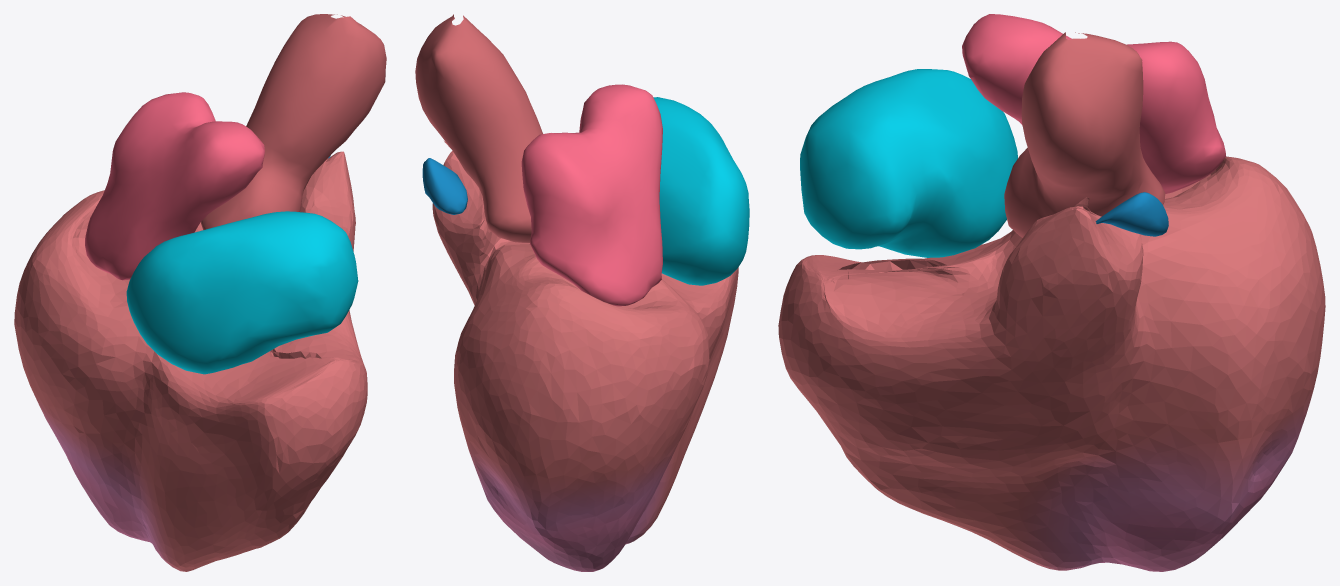
File: frame_38.glb
The picture shows the model from 3 angles, left to right: view 1: azimuth 30°, elevation 25°; view 2: azimuth 150°, elevation 25°; view 3: azimuth 270°, elevation 25°; orthographic projection. The views are drawn at different scales.
Parts seen in each view (by area): view 1: Renderer Node; view 2: Renderer Node; view 3: Renderer Node.
Part boxes in pixels (<box>): Renderer Node: <box>14,14,386,571</box>; Renderer Node: <box>415,14,749,571</box>; Renderer Node: <box>778,14,1325,571</box>.
Bounding box in the file's own units: 101 × 158 × 123.
